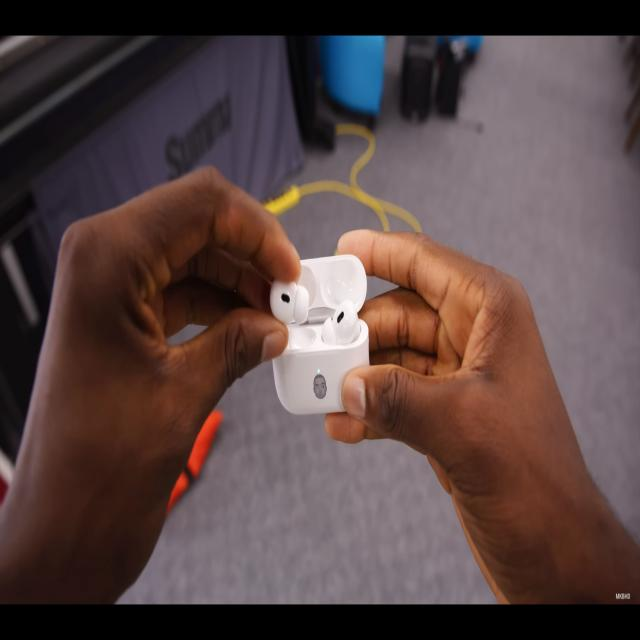airpods: (268, 252, 371, 418)
